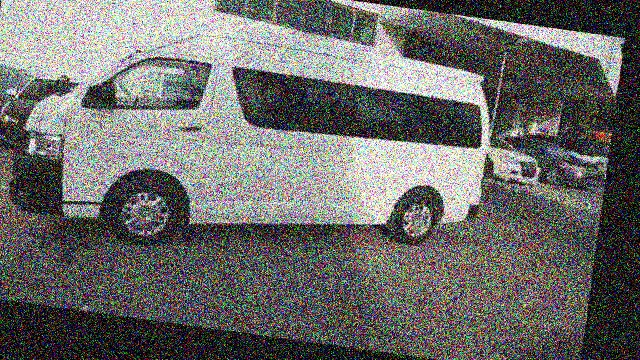van: (1, 0, 499, 289)
